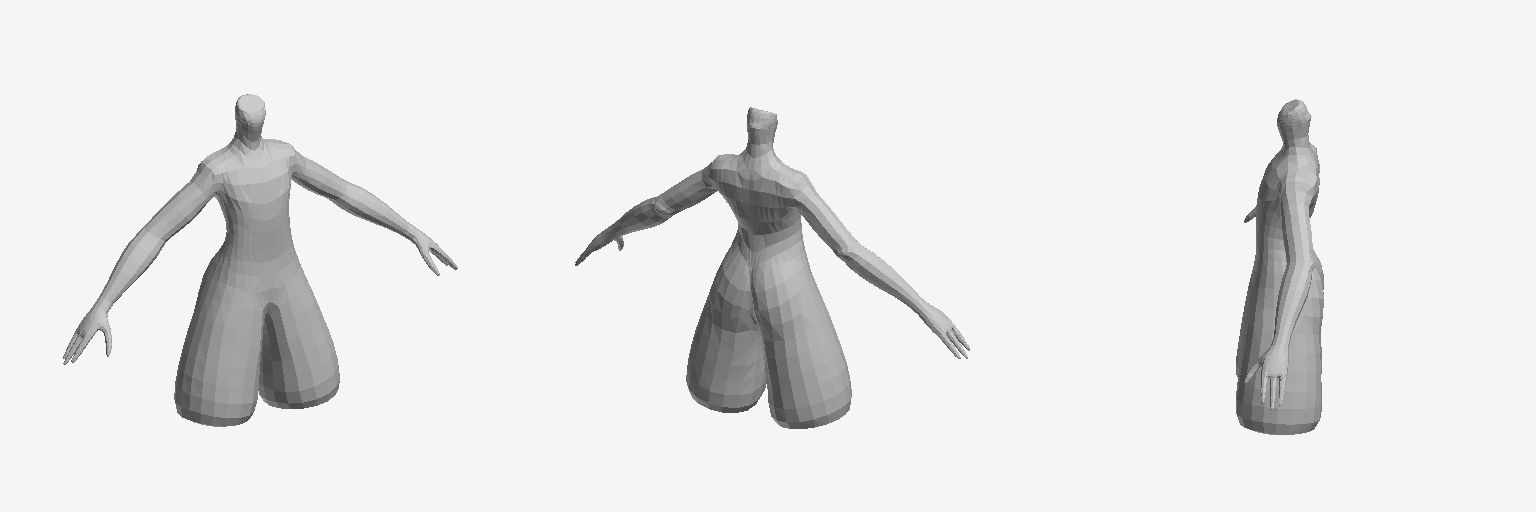
The model's file is BBBExportobj.obj.
3 renders of one model, left to right at view 1: azimuth 30°, elevation 25°; view 2: azimuth 150°, elevation 25°; view 3: azimuth 270°, elevation 25°, orthographic.
Visible parts, largest first — view 1: Group34294; view 2: Group34294; view 3: Group34294.
Part boxes in pixels (x1,y1,x2,y2): Group34294: (63,94,457,426); Group34294: (575,107,969,428); Group34294: (1236,99,1323,434).
Bounding box in the file's own units: 1.35 × 1.01 × 0.264.